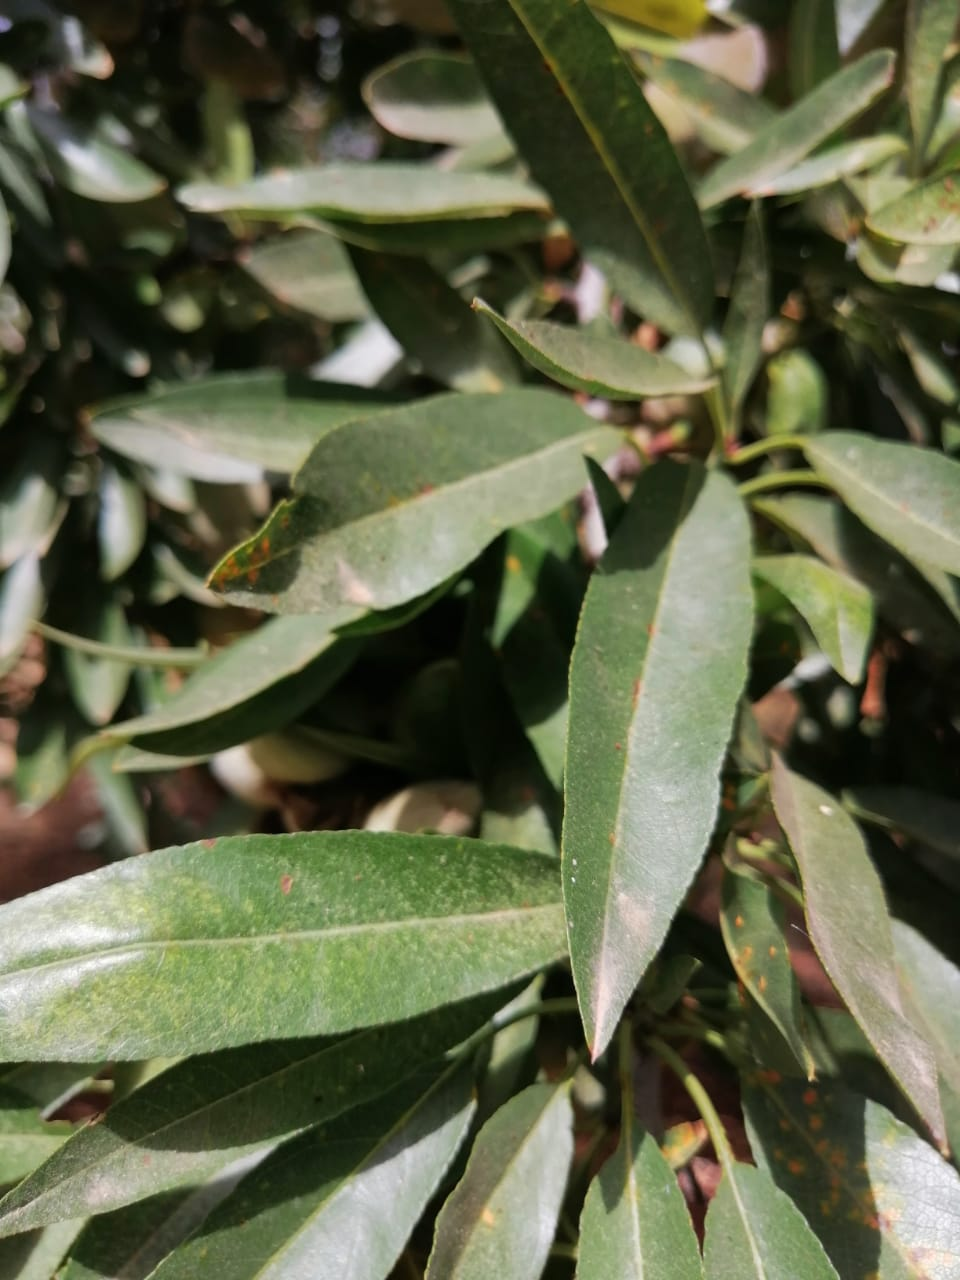acariens: (1, 827, 564, 1065), (557, 460, 753, 1061)
